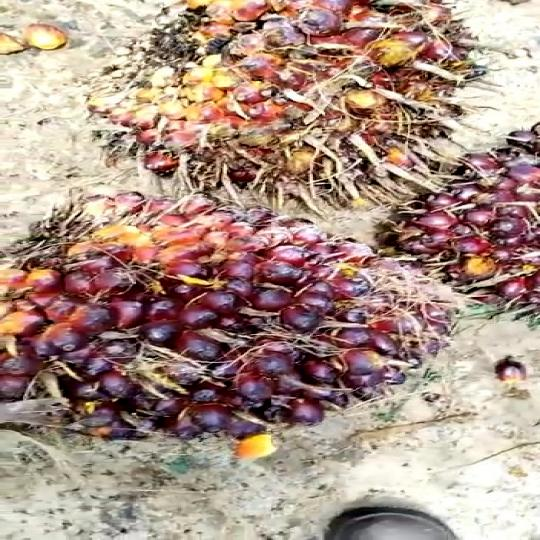masak: (0, 190, 456, 438), (94, 0, 482, 214)
